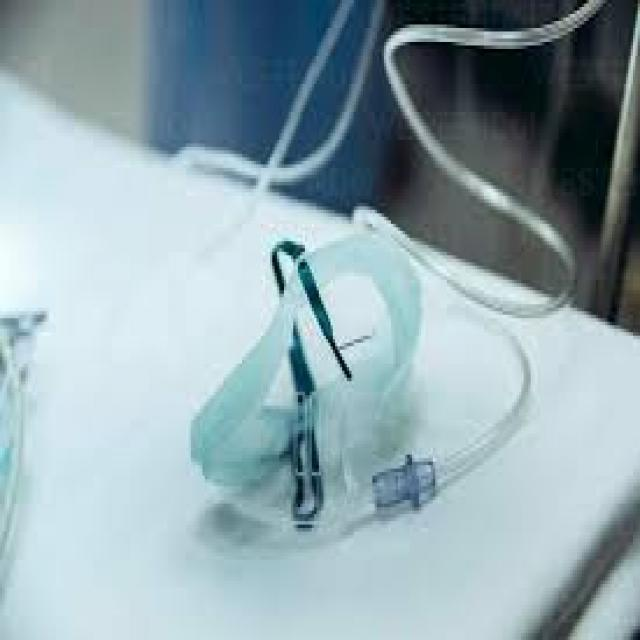oxygen_mask: (210, 217, 533, 544)
